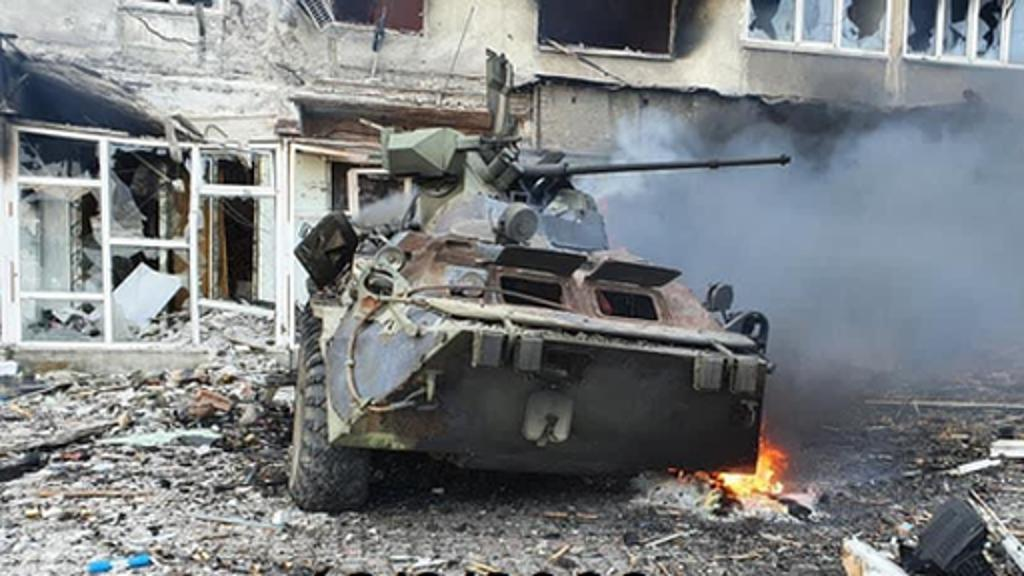APC-IFV: (246, 102, 794, 526)
